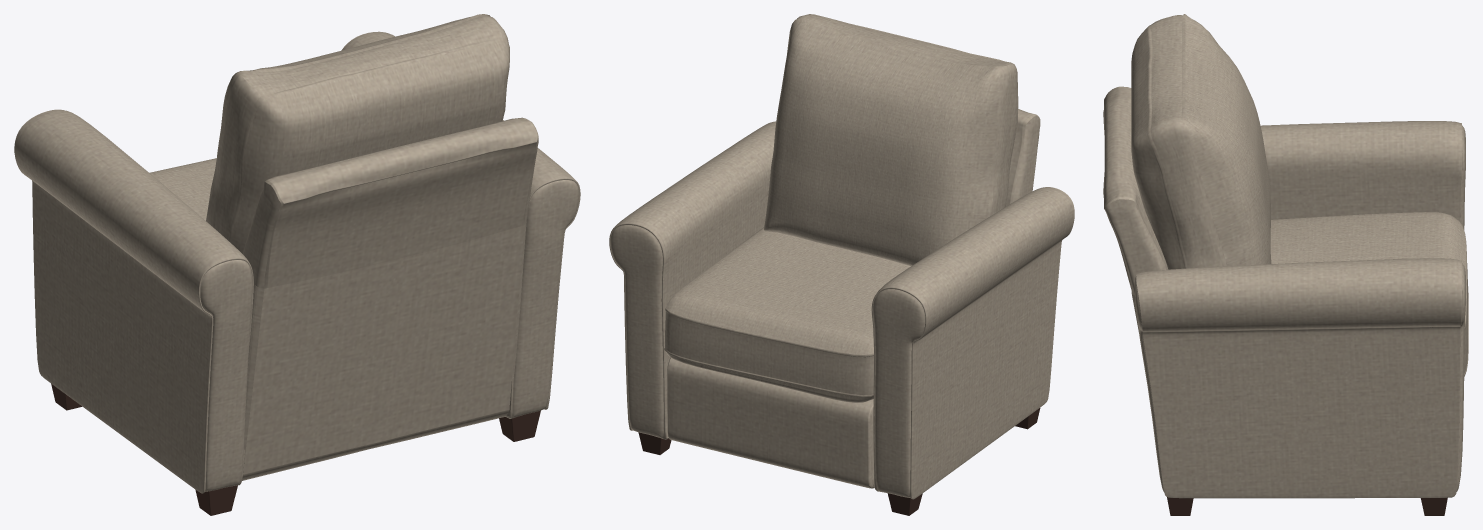
File: abo_B07DBGXFVF.glb
3 renders of one model, left to right at view 1: azimuth 30°, elevation 25°; view 2: azimuth 150°, elevation 25°; view 3: azimuth 270°, elevation 25°, orthographic. The views are drawn at different scales.
Parts seen in each view (by area): view 1: RootNode; view 2: RootNode; view 3: RootNode.
Boxes of the visible parts, x1,y1,x2,y2 form: RootNode: (14,14,580,515); RootNode: (609,14,1074,515); RootNode: (1103,14,1468,515).
Size of the model in its own units: 1.27 by 1.35 by 1.18.
Materials: 1 (1 with a texture image).
